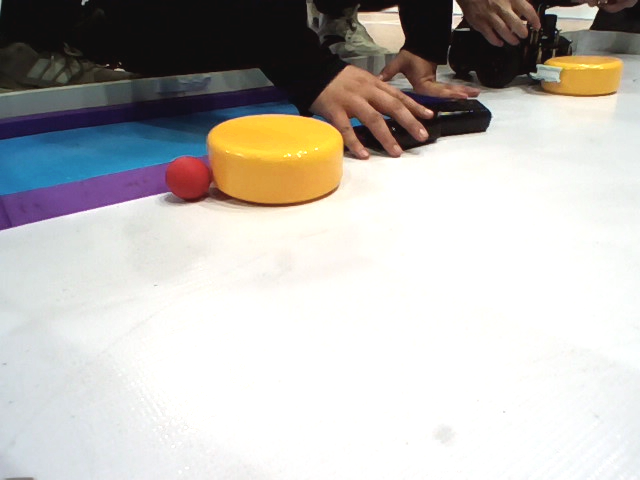black: (398, 95, 509, 142), (358, 113, 447, 163)
kuang: (1, 79, 382, 238)
red: (153, 156, 214, 207)
yellow: (199, 112, 357, 203), (538, 52, 626, 96)
